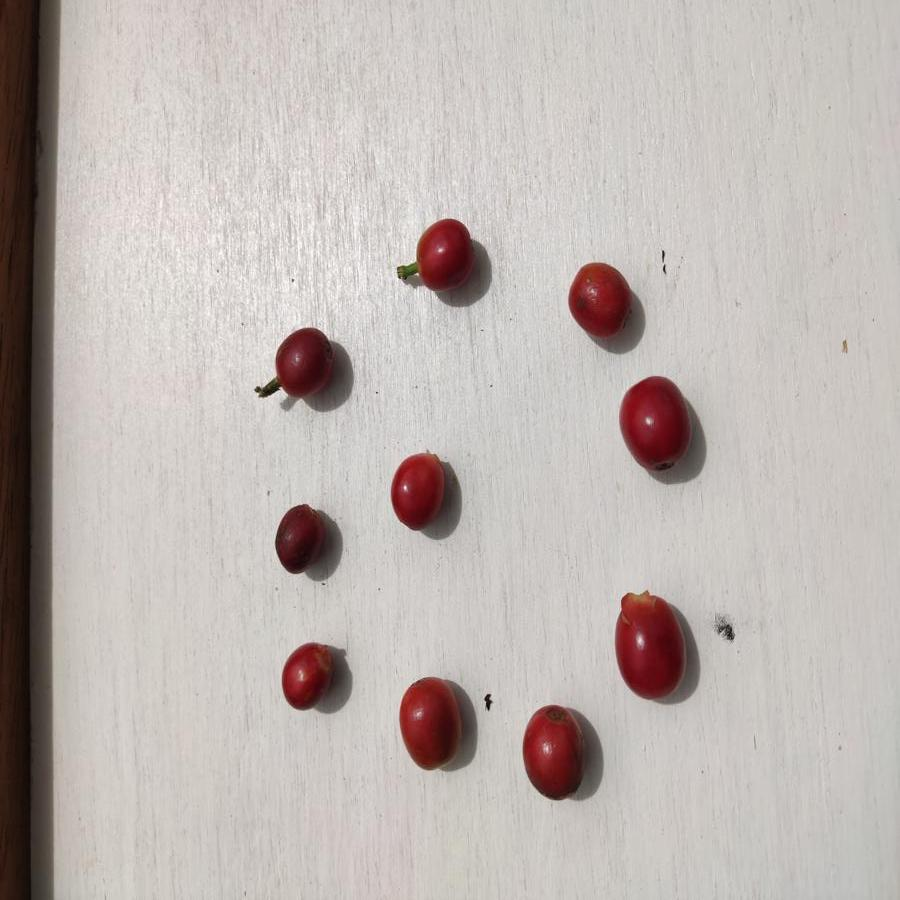Maduro: (612, 590, 691, 700), (619, 373, 692, 472), (399, 676, 463, 772), (522, 705, 585, 801), (566, 261, 633, 337), (417, 217, 476, 292), (390, 451, 445, 531), (280, 645, 333, 709)
Sobremaduro: (272, 326, 333, 400), (275, 504, 322, 576)
